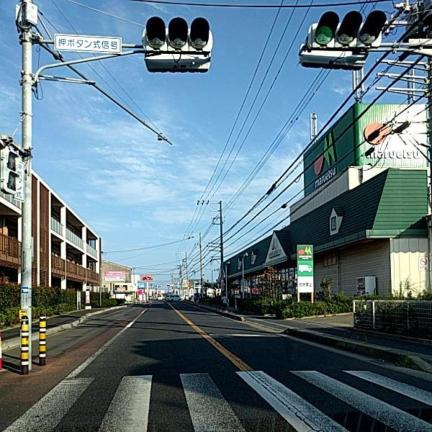Road: (0, 302, 431, 431)
